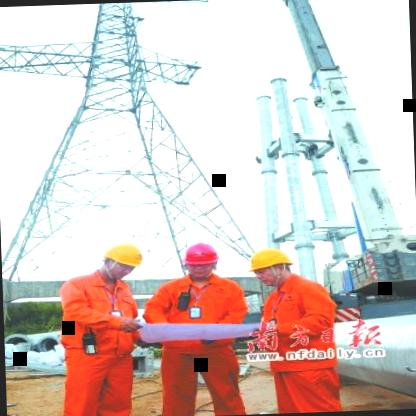helmet: (244, 242, 298, 291), (96, 236, 148, 280), (179, 238, 225, 284)
